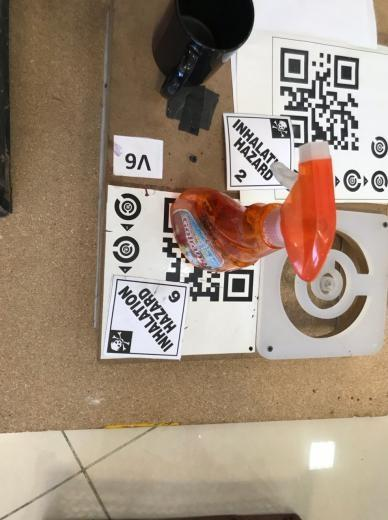poison: (105, 276, 187, 359), (226, 117, 293, 189)
